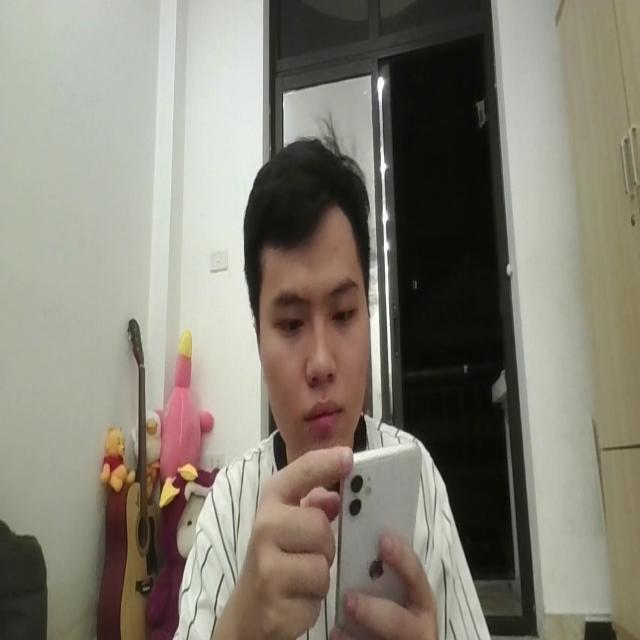phone: (338, 441, 422, 634)
student: (179, 130, 488, 640)
